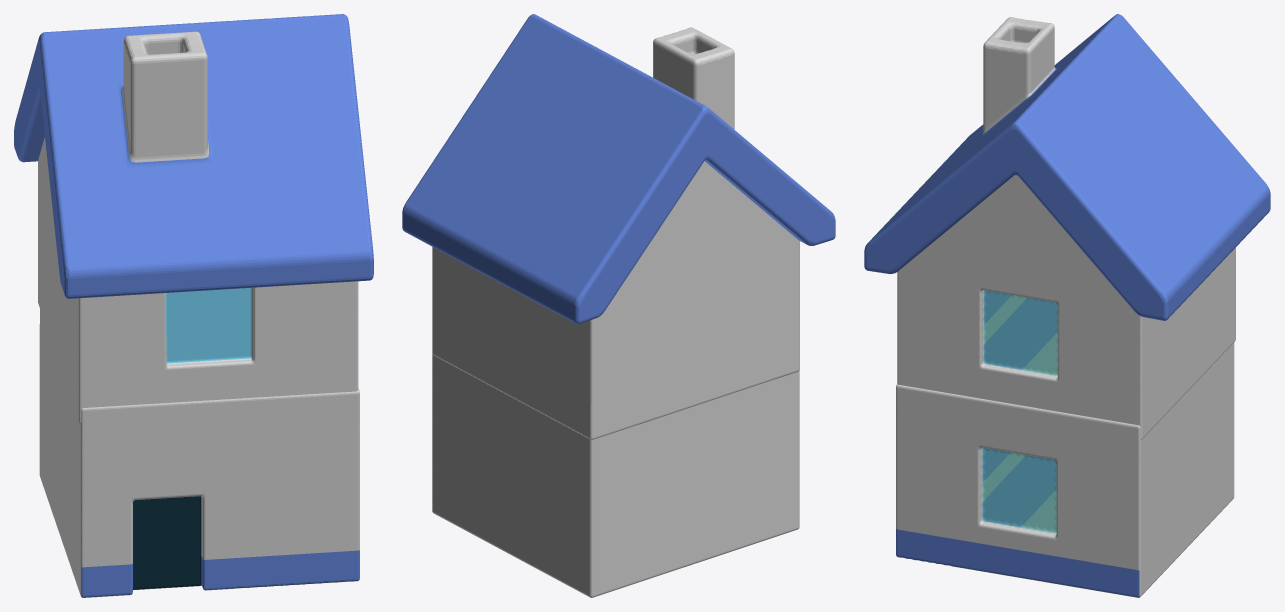
The model's file is House 2.fbx.
3 views of the same model, side by side, from view 1: azimuth 30°, elevation 25°; view 2: azimuth 150°, elevation 25°; view 3: azimuth 270°, elevation 25° (orthographic). The views are drawn at different scales.
Parts seen in each view (by area): view 1: Cube.037; view 2: Cube.037; view 3: Cube.037.
Part boxes in pixels (left/top/right/bottom): Cube.037: left=14, top=14, right=373, bottom=597; Cube.037: left=402, top=14, right=835, bottom=597; Cube.037: left=864, top=14, right=1270, bottom=597.
Size of the model in its own units: 139 by 188 by 147.
